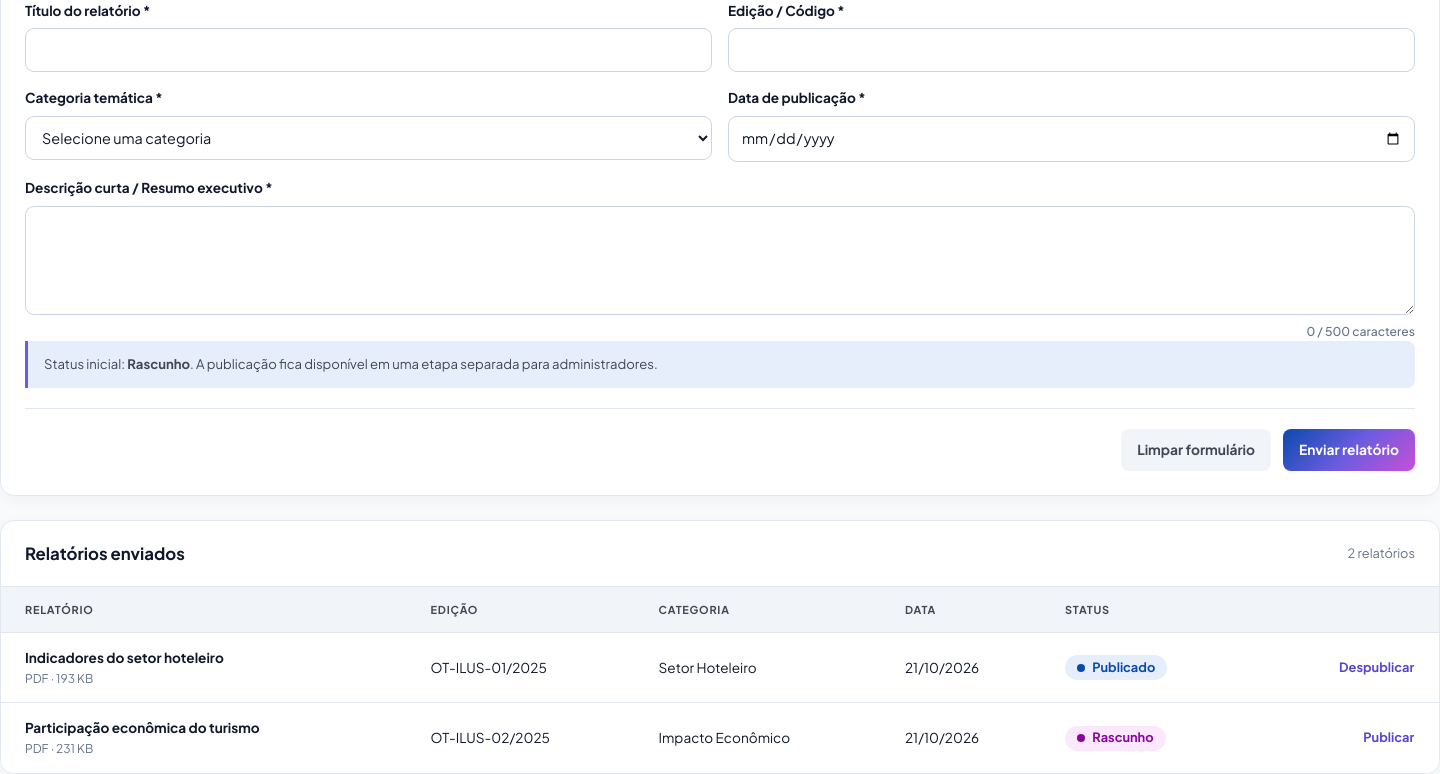
Test: AdminRelatoriosPage › publicação › mostra a mensagem do erro 403 e mantém a linha como estava
The image size is (1440, 774).
(page scrolled)
Click the button "Publicar": coordinates (1389, 738) [1354, 723, 1423, 753]
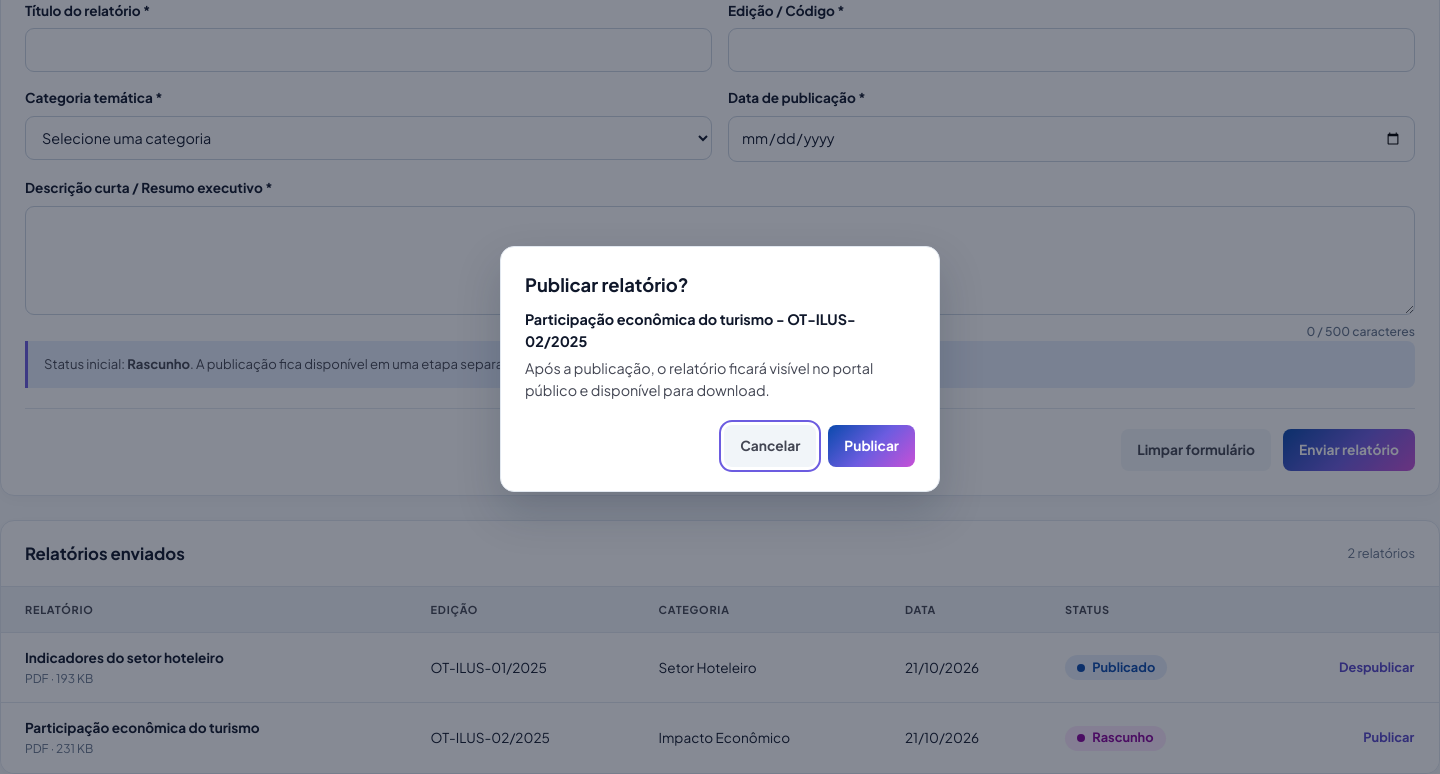
Click the button "Publicar": coordinates (872, 446) [828, 425, 915, 467]
(page scrolled)
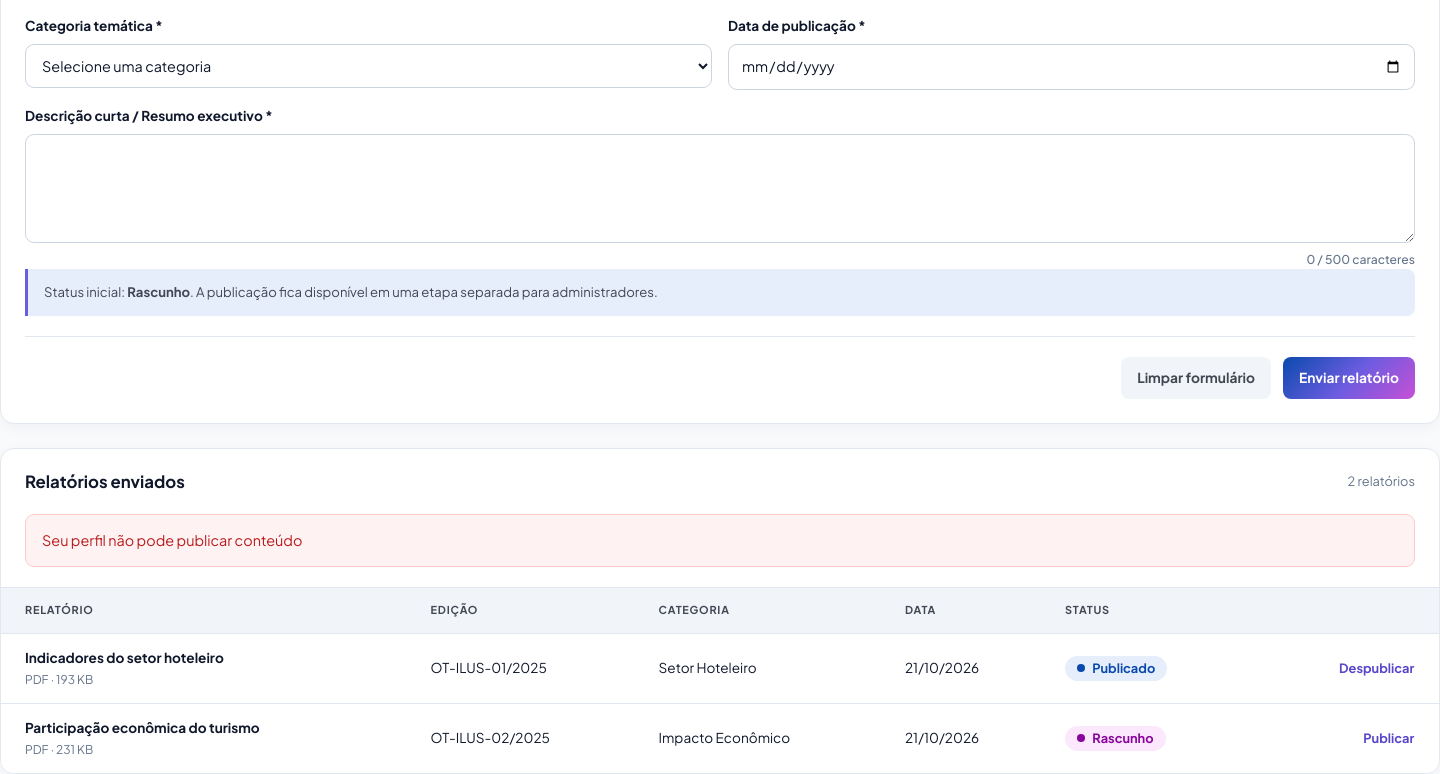
Check: the message reads "Seu perfil não pode publicar conteúdo", box [42, 531, 302, 549]
Check: the dialog is gone
